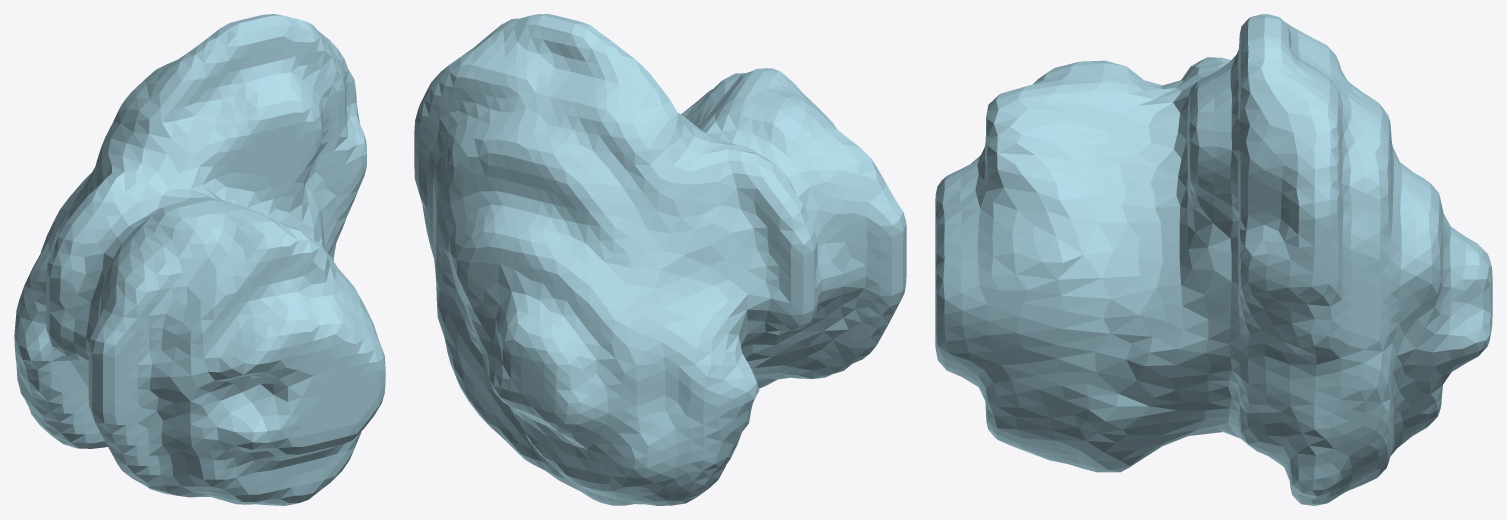
Rendered from livertumor.obj.
3 views of the same model, side by side, from view 1: azimuth 30°, elevation 25°; view 2: azimuth 150°, elevation 25°; view 3: azimuth 270°, elevation 25° (orthographic). The views are drawn at different scales.
Parts seen in each view (by area): view 1: grp1; view 2: grp1; view 3: grp1.
Part boxes in pixels (left/top/right/bottom): grp1: left=14, top=14, right=385, bottom=505; grp1: left=414, top=14, right=906, bottom=505; grp1: left=935, top=14, right=1492, bottom=505.
Bounding box in the file's own units: 24.61 × 26.89 × 27.5.
